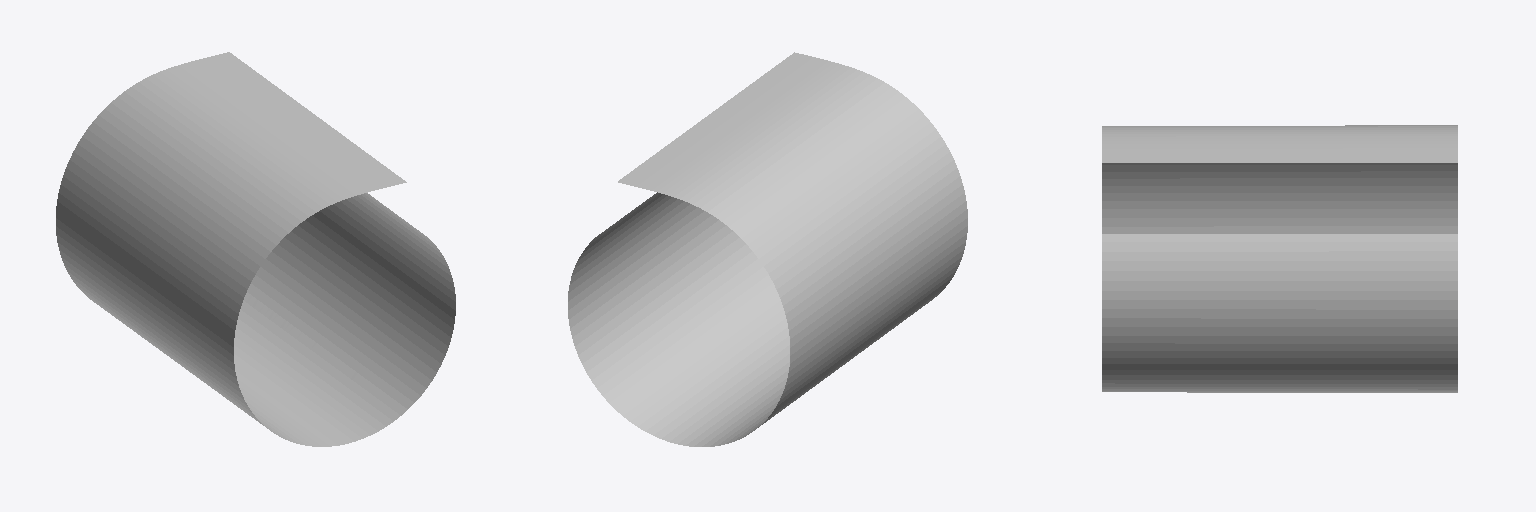
File: CurvePaper_000006.obj
The picture shows the model from 3 angles: view 1: azimuth 30°, elevation 25°; view 2: azimuth 150°, elevation 25°; view 3: azimuth 270°, elevation 25°; orthographic projection.
Parts seen in each view (by area): view 1: Plane; view 2: Plane; view 3: Plane.
Part boxes in pixels (x1,y1,x2,y2): Plane: (56,52,455,446); Plane: (568,52,967,446); Plane: (1102,125,1457,392).
Bounding box in the file's own units: 1.64 × 1.74 × 2.26.